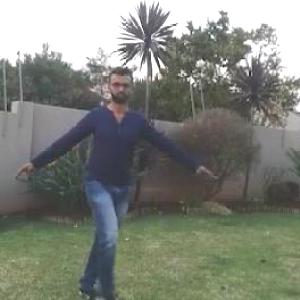land: (38, 79, 178, 251)
